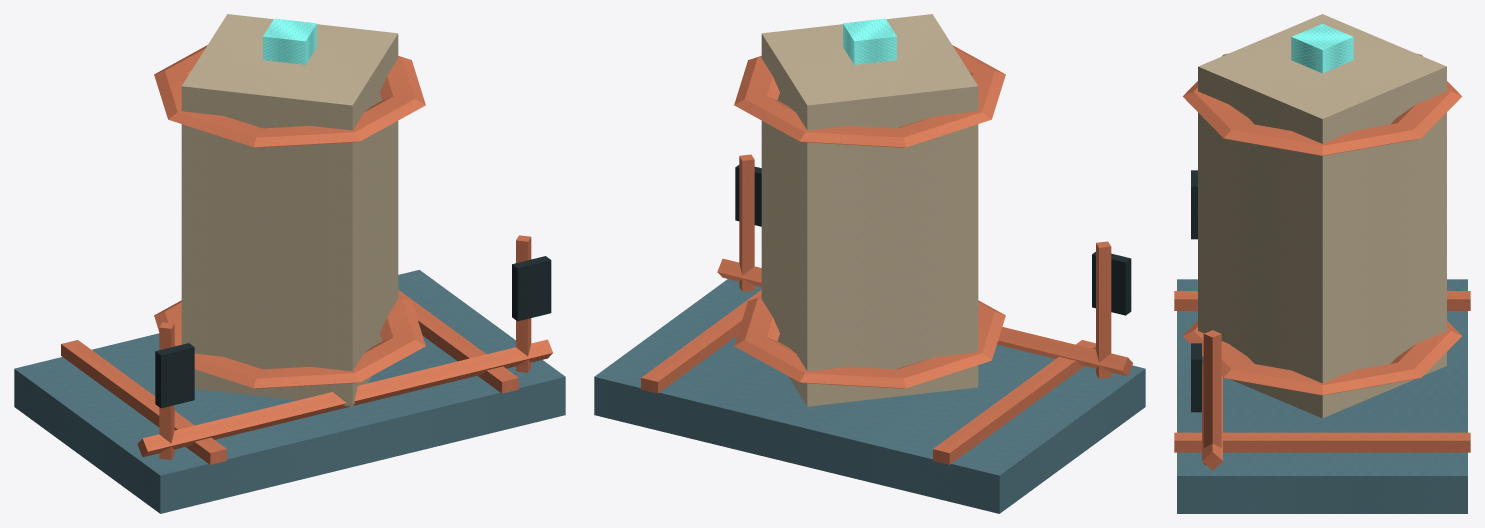
Rendered from atlas100-s044-a04.lod2.glb.
3 renders of one model, left to right at view 1: azimuth 30°, elevation 25°; view 2: azimuth 150°, elevation 25°; view 3: azimuth 270°, elevation 25°, orthographic.
Parts seen in each view (by area): view 1: atlas100-s044-a04:part-003, atlas100-s044-a04:part-000, atlas100-s044-a04:part-005, atlas100-s044-a04:part-011, atlas100-s044-a04:part-004, atlas100-s044-a04:part-001, atlas100-s044-a04:part-002, atlas100-s044-a04:part-008, atlas100-s044-a04:part-010, atlas100-s044-a04:part-006, atlas100-s044-a04:part-007, atlas100-s044-a04:part-009; view 2: atlas100-s044-a04:part-003, atlas100-s044-a04:part-000, atlas100-s044-a04:part-005, atlas100-s044-a04:part-004, atlas100-s044-a04:part-001, atlas100-s044-a04:part-011, atlas100-s044-a04:part-002, atlas100-s044-a04:part-006, atlas100-s044-a04:part-007, atlas100-s044-a04:part-009, atlas100-s044-a04:part-008, atlas100-s044-a04:part-010; view 3: atlas100-s044-a04:part-003, atlas100-s044-a04:part-000, atlas100-s044-a04:part-005, atlas100-s044-a04:part-004, atlas100-s044-a04:part-002, atlas100-s044-a04:part-006, atlas100-s044-a04:part-009, atlas100-s044-a04:part-001, atlas100-s044-a04:part-010, atlas100-s044-a04:part-011, atlas100-s044-a04:part-008.
Part boxes in pixels (x1,y1,x2,y2): atlas100-s044-a04:part-003: [181, 14, 398, 406]; atlas100-s044-a04:part-000: [14, 270, 565, 513]; atlas100-s044-a04:part-005: [154, 45, 425, 147]; atlas100-s044-a04:part-011: [137, 339, 552, 457]; atlas100-s044-a04:part-004: [154, 297, 425, 388]; atlas100-s044-a04:part-001: [61, 340, 226, 464]; atlas100-s044-a04:part-002: [398, 290, 518, 393]; atlas100-s044-a04:part-008: [155, 343, 194, 408]; atlas100-s044-a04:part-010: [512, 256, 551, 321]; atlas100-s044-a04:part-006: [263, 18, 316, 64]; atlas100-s044-a04:part-007: [159, 322, 174, 459]; atlas100-s044-a04:part-009: [516, 235, 531, 372]; atlas100-s044-a04:part-003: [761, 14, 978, 406]; atlas100-s044-a04:part-000: [594, 279, 1145, 513]; atlas100-s044-a04:part-005: [734, 45, 1005, 147]; atlas100-s044-a04:part-004: [734, 297, 1005, 388]; atlas100-s044-a04:part-001: [933, 340, 1095, 464]; atlas100-s044-a04:part-011: [717, 258, 1132, 376]; atlas100-s044-a04:part-002: [641, 290, 761, 393]; atlas100-s044-a04:part-006: [843, 18, 896, 64]; atlas100-s044-a04:part-007: [1096, 241, 1111, 378]; atlas100-s044-a04:part-009: [739, 154, 754, 291]; atlas100-s044-a04:part-008: [1092, 252, 1131, 315]; atlas100-s044-a04:part-010: [735, 165, 761, 226]; atlas100-s044-a04:part-003: [1198, 14, 1446, 418]; atlas100-s044-a04:part-000: [1177, 279, 1467, 513]; atlas100-s044-a04:part-005: [1183, 53, 1461, 155]; atlas100-s044-a04:part-004: [1183, 320, 1461, 395]; atlas100-s044-a04:part-002: [1174, 432, 1470, 452]; atlas100-s044-a04:part-006: [1291, 24, 1353, 73]; atlas100-s044-a04:part-009: [1203, 330, 1221, 464]; atlas100-s044-a04:part-001: [1174, 291, 1470, 310]; atlas100-s044-a04:part-010: [1191, 343, 1201, 412]; atlas100-s044-a04:part-011: [1202, 364, 1222, 470]; atlas100-s044-a04:part-008: [1191, 170, 1197, 239].
Bounding box in the file's own units: 2.88 × 2.59 × 1.84.
5 materials, 5 textured.
